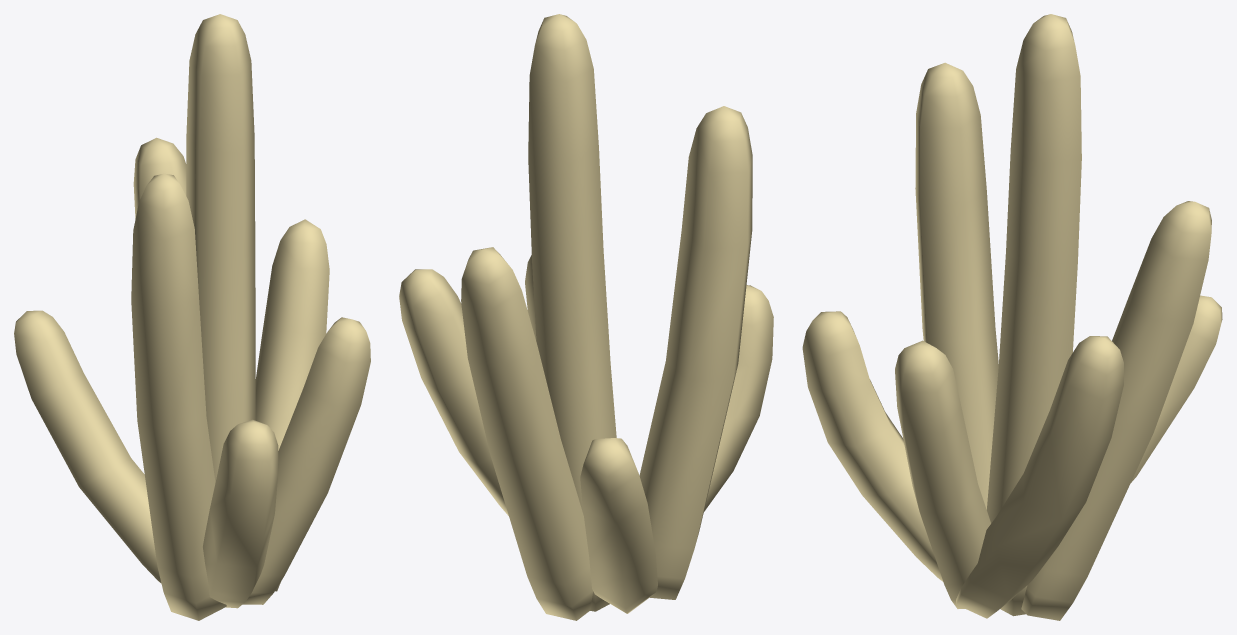
The model's file is Coral3_Bogdan.fbx.
3 renders of one model, left to right at view 1: azimuth 30°, elevation 25°; view 2: azimuth 150°, elevation 25°; view 3: azimuth 270°, elevation 25°, orthographic. The views are drawn at different scales.
Parts seen in each view (by area): view 1: Coral3; view 2: Coral3; view 3: Coral3.
Part boxes in pixels (<box>): Coral3: <box>14,14,370,620</box>; Coral3: <box>399,14,773,620</box>; Coral3: <box>802,14,1222,620</box>.
Size of the model in its own units: 44.39 by 90.67 by 57.26.
